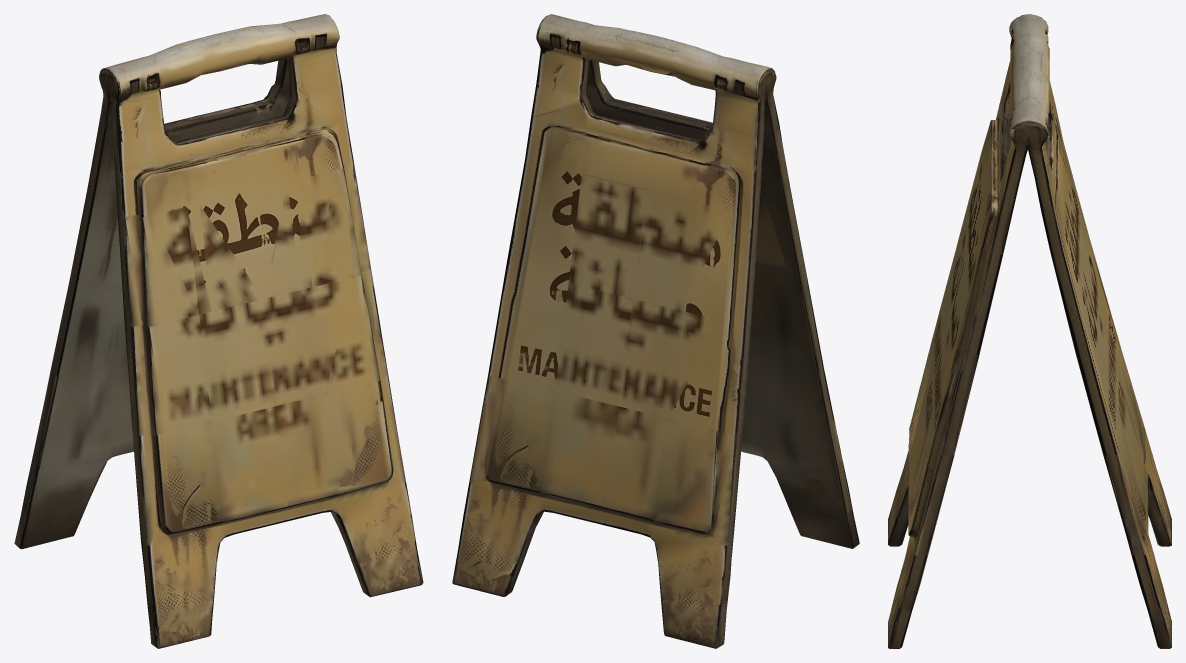
File: Meshy_AI_Maintenance_Area_Sign_0312133126_texture.fbx
The picture shows the model from 3 angles, left to right: view 1: azimuth 30°, elevation 25°; view 2: azimuth 150°, elevation 25°; view 3: azimuth 270°, elevation 25°; orthographic projection.
Parts seen in each view (by area): view 1: Mesh_0; view 2: Mesh_0; view 3: Mesh_0.
Part boxes in pixels (<box>): Mesh_0: <box>14,14,423,648</box>; Mesh_0: <box>452,14,859,648</box>; Mesh_0: <box>888,14,1171,648</box>.
Bounding box in the file's own units: 101 × 191 × 93.54.
1 material, 1 textured.
